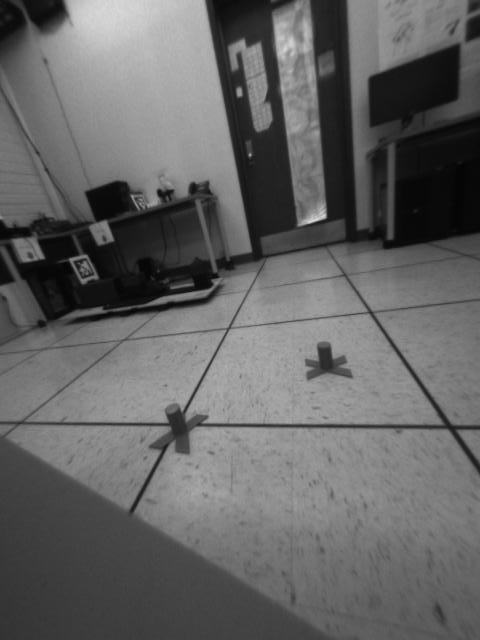X: (148, 401, 209, 455), (301, 341, 356, 380)
